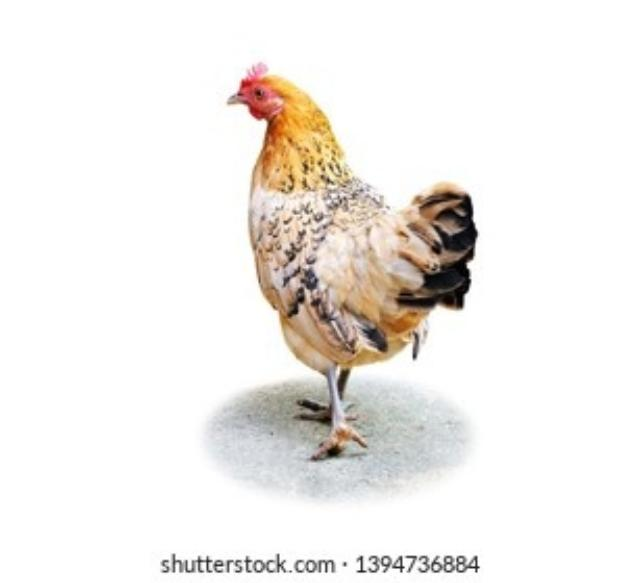Chicken: (226, 60, 478, 462)
